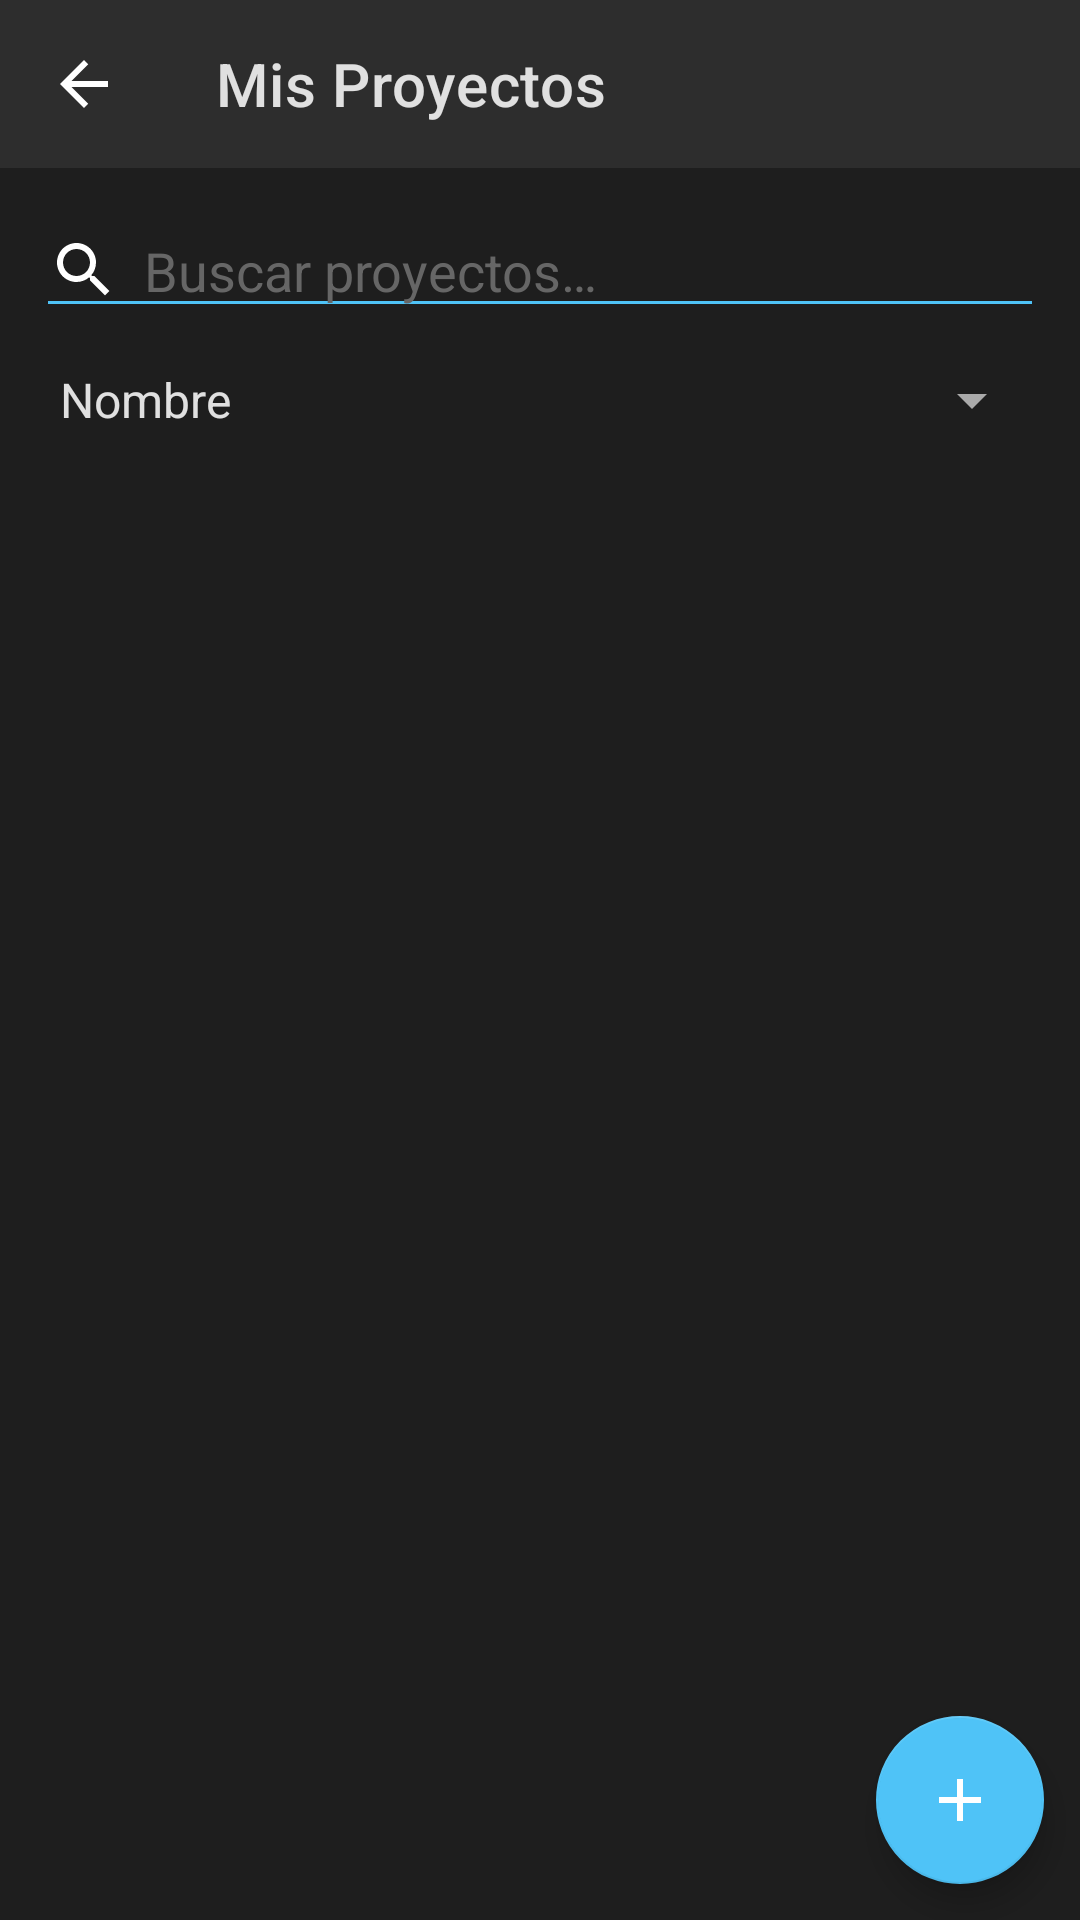

Icon bounding boxes for this 1080*1920 phone screenshot, format (x1, y1, x2, y2):
Nuevo Proyecto: (876, 1716, 1044, 1884)
